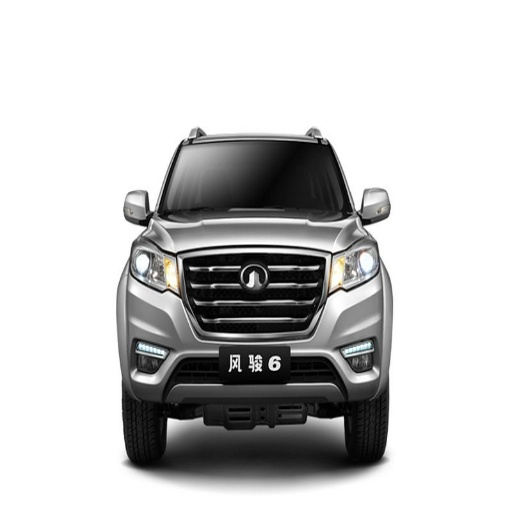front_bumper: (119, 252, 384, 407)
front_right_light: (129, 243, 178, 289)
hood: (147, 209, 364, 252)
